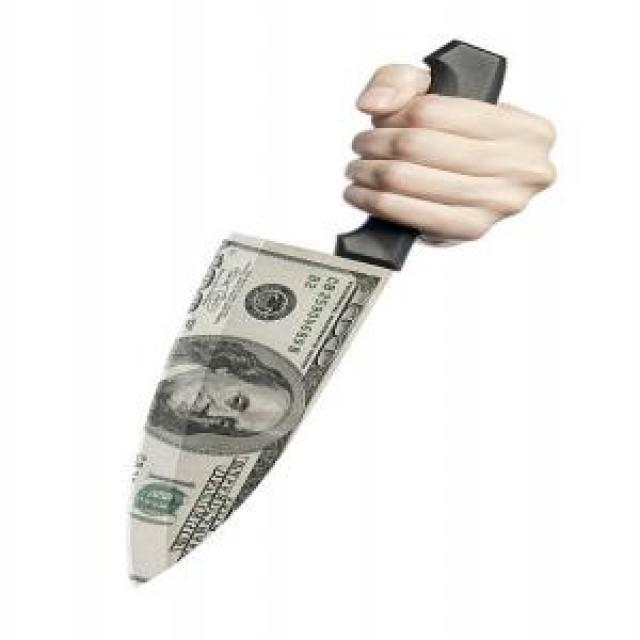knife: (75, 36, 514, 592)
